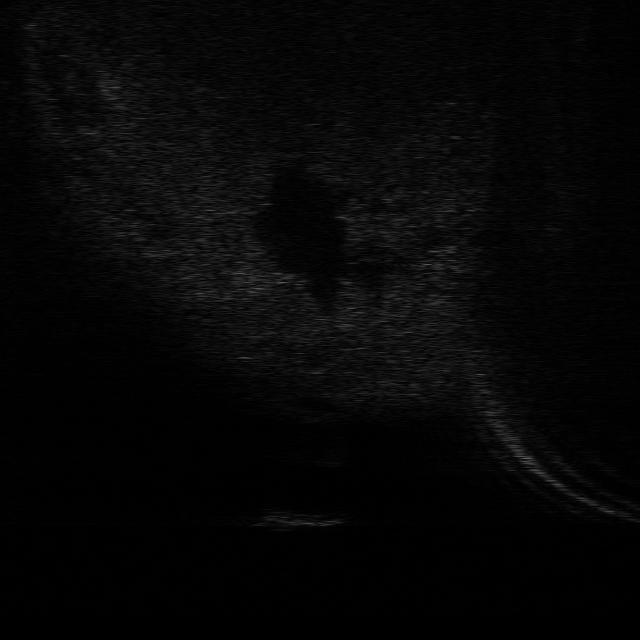cube: (256, 505, 345, 531)
